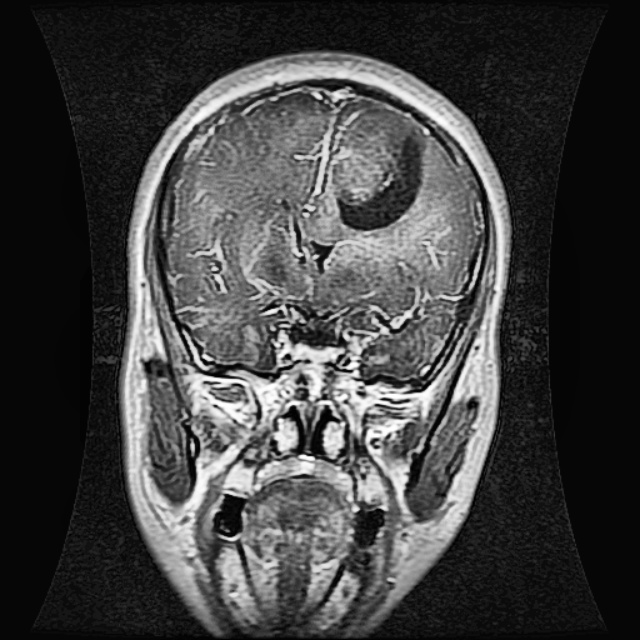Meningioma: (334, 125, 425, 233)
